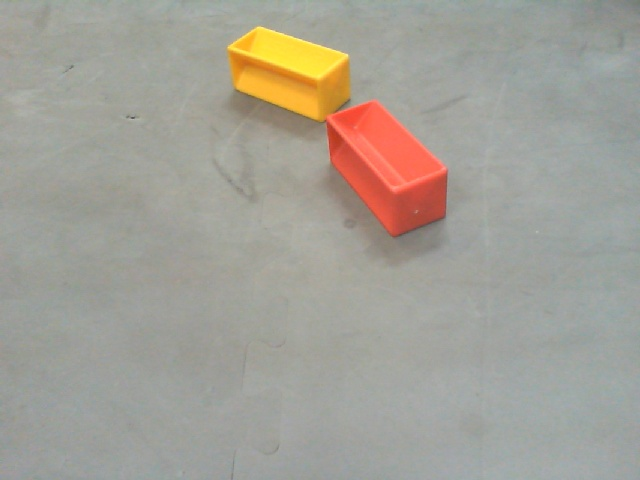RedSample: (325, 99, 451, 238)
YellowSample: (227, 24, 352, 120)
